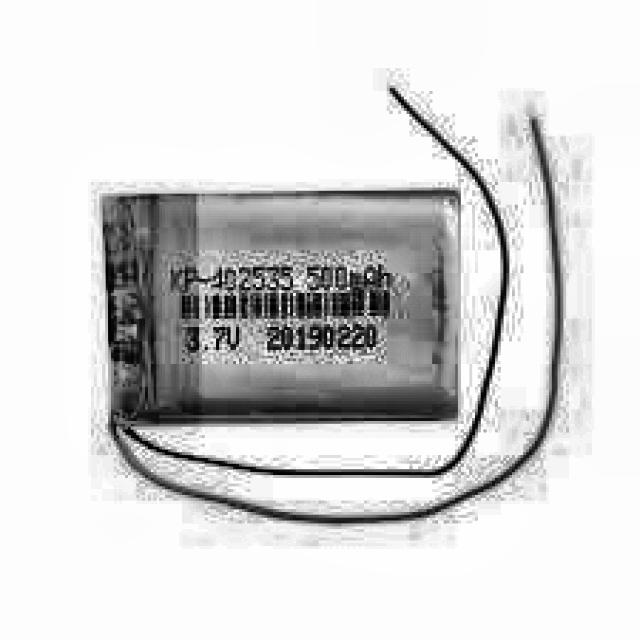Battery: (105, 199, 458, 424)
